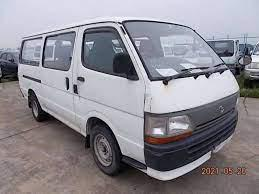Van: (17, 18, 242, 175)
